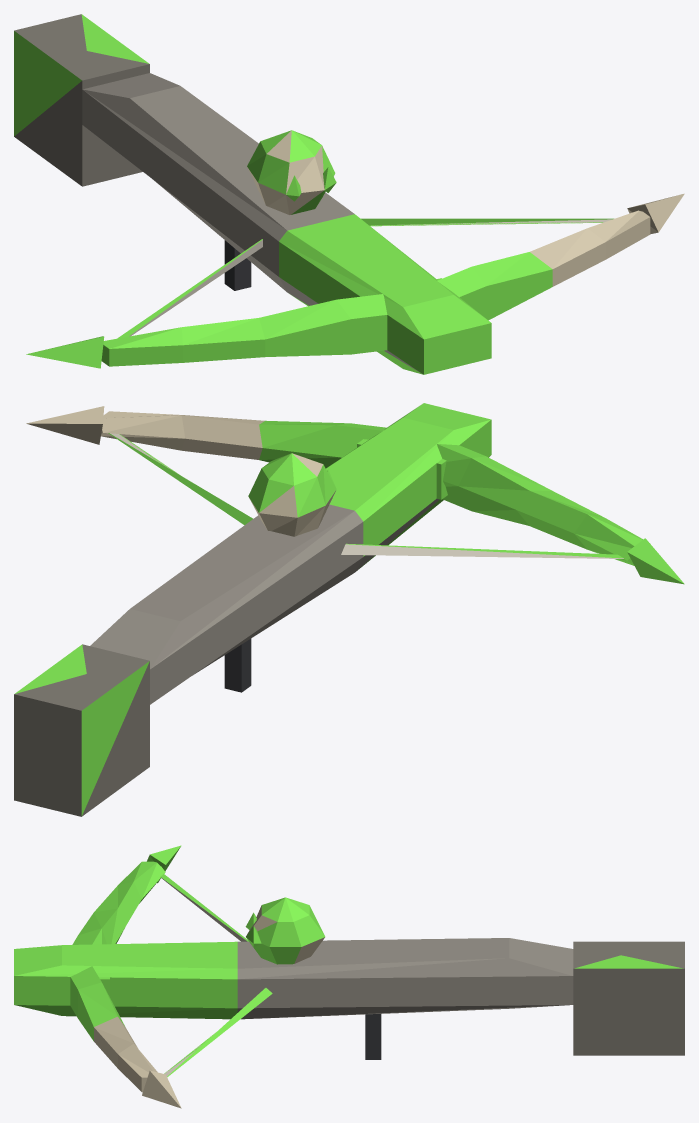
File: B03_5_necrotic_crossbow.obj
3 renders of one model, top to bottom at view 1: azimuth 30°, elevation 25°; view 2: azimuth 150°, elevation 25°; view 3: azimuth 270°, elevation 25°, orthographic. The views are drawn at different scales.
Visible parts, largest first — view 1: B03_5_necrotic_crossbow; view 2: B03_5_necrotic_crossbow; view 3: B03_5_necrotic_crossbow.
Boxes of the visible parts, box(x1,y1,x2,y2) form: B03_5_necrotic_crossbow: box(14, 14, 684, 374); B03_5_necrotic_crossbow: box(14, 403, 684, 816); B03_5_necrotic_crossbow: box(14, 845, 684, 1108).
Bounding box in the file's own units: 78 × 22 × 84.
